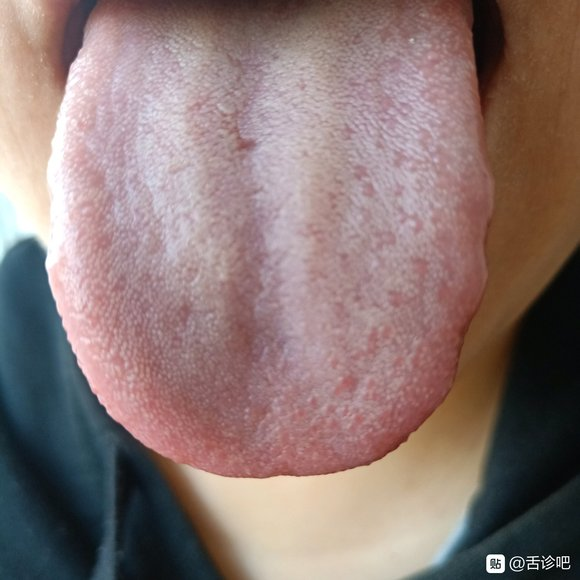baitaishe: (45, 1, 492, 478)
